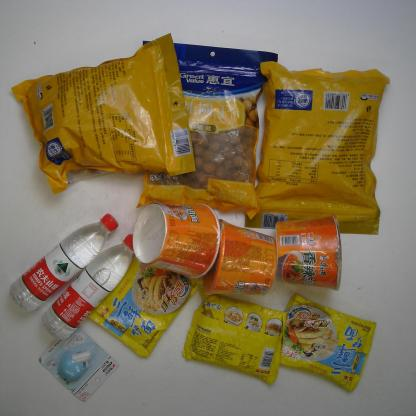Dried Food: (10, 33, 198, 195), (135, 37, 279, 221), (243, 61, 391, 235)
Drink: (8, 212, 119, 313), (40, 232, 136, 341)
Instant Noodles: (87, 252, 206, 359), (276, 293, 378, 392), (182, 294, 288, 385), (132, 202, 222, 280), (201, 218, 279, 296), (272, 213, 344, 293)
Stationery: (38, 326, 119, 402)
